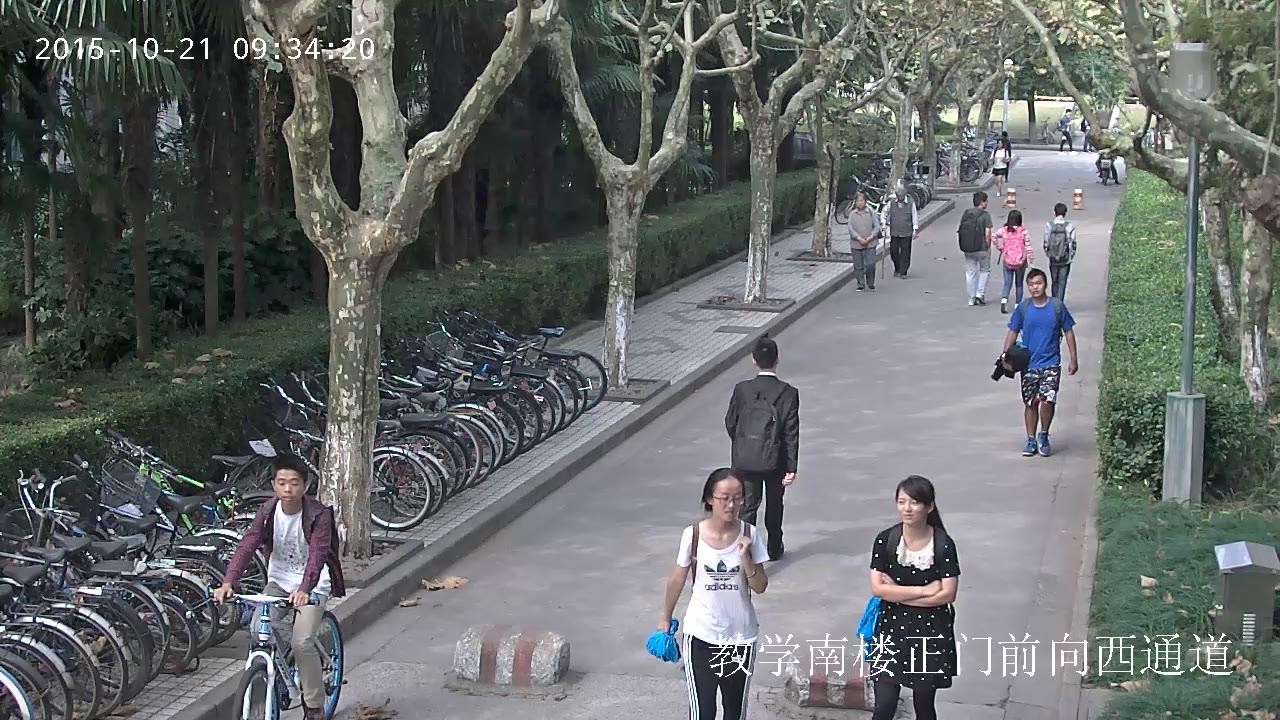person: (206, 454, 345, 720), (212, 455, 344, 720), (645, 468, 769, 720), (857, 474, 961, 720), (723, 338, 798, 561), (991, 267, 1078, 456), (957, 192, 994, 307), (991, 210, 1032, 313), (881, 184, 918, 279), (1043, 202, 1076, 304), (848, 191, 880, 291), (990, 140, 1008, 197), (1095, 144, 1120, 185), (1095, 144, 1119, 183), (995, 130, 1011, 180), (1056, 108, 1072, 151), (1080, 114, 1096, 151)
